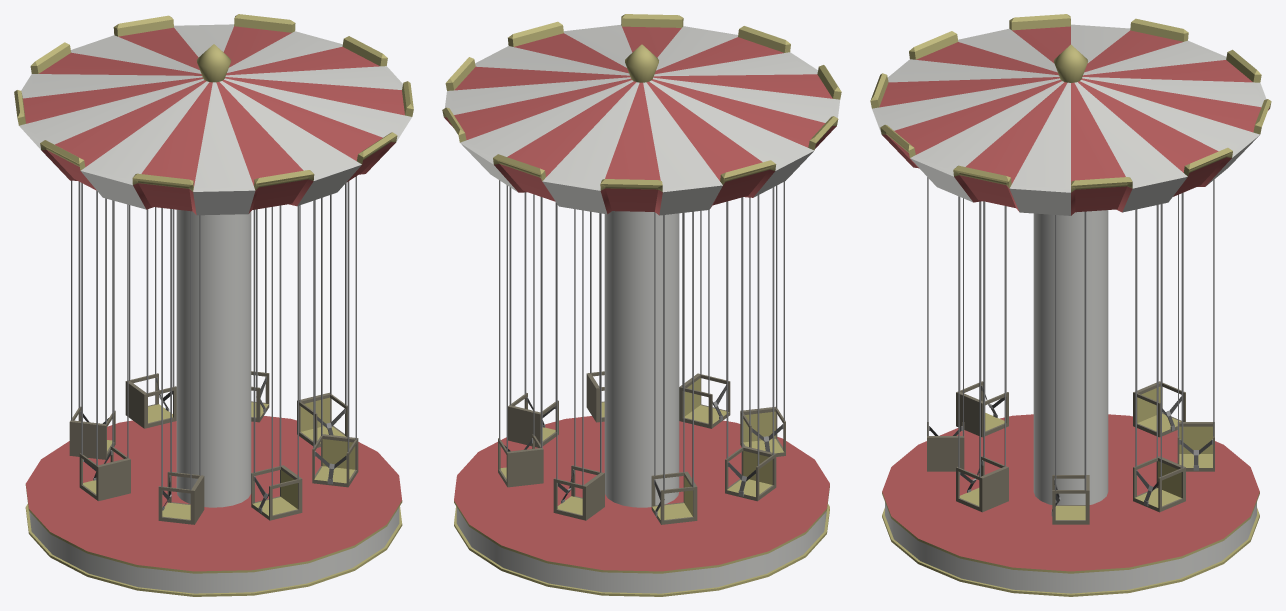
File: MerryGoRound.fbx
3 renders of one model, left to right at view 1: azimuth 30°, elevation 25°; view 2: azimuth 150°, elevation 25°; view 3: azimuth 270°, elevation 25°, orthographic.
Parts seen in each view (by area): view 1: MerryGoRound; view 2: MerryGoRound; view 3: MerryGoRound.
Part boxes in pixels (<box>): MerryGoRound: <box>14,14,413,596</box>; MerryGoRound: <box>442,14,841,596</box>; MerryGoRound: <box>870,14,1271,596</box>.
Size of the model in its own units: 10.72 by 13.95 by 10.72.
